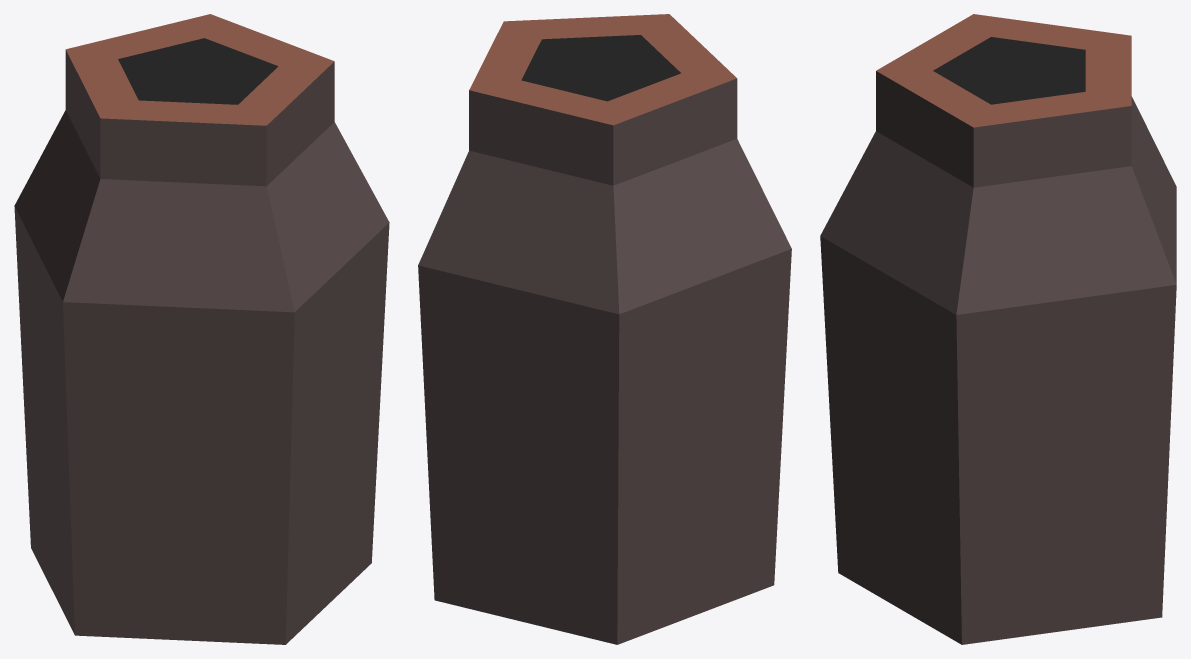
The model's file is TB_D_Prop_Jar_Q.FBX.
3 views of the same model, side by side, from view 1: azimuth 30°, elevation 25°; view 2: azimuth 150°, elevation 25°; view 3: azimuth 270°, elevation 25° (orthographic).
Visible parts, largest first — view 1: TB_D_Prop_Jar_Q; view 2: TB_D_Prop_Jar_Q; view 3: TB_D_Prop_Jar_Q.
Boxes of the visible parts, x1,y1,x2,y2 form: TB_D_Prop_Jar_Q: (14,14,389,644); TB_D_Prop_Jar_Q: (418,14,791,644); TB_D_Prop_Jar_Q: (820,14,1176,644).
Bounding box in the file's own units: 0.6492 × 0.9598 × 0.6175.
